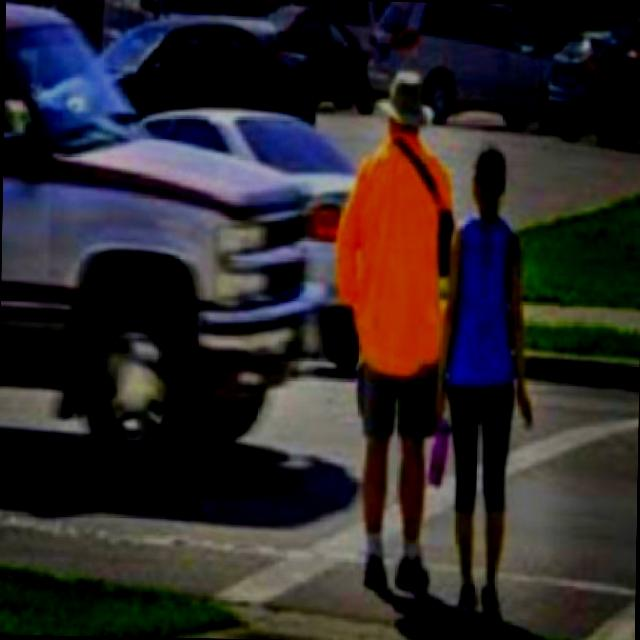Person: (329, 61, 458, 596), (434, 142, 538, 630)
